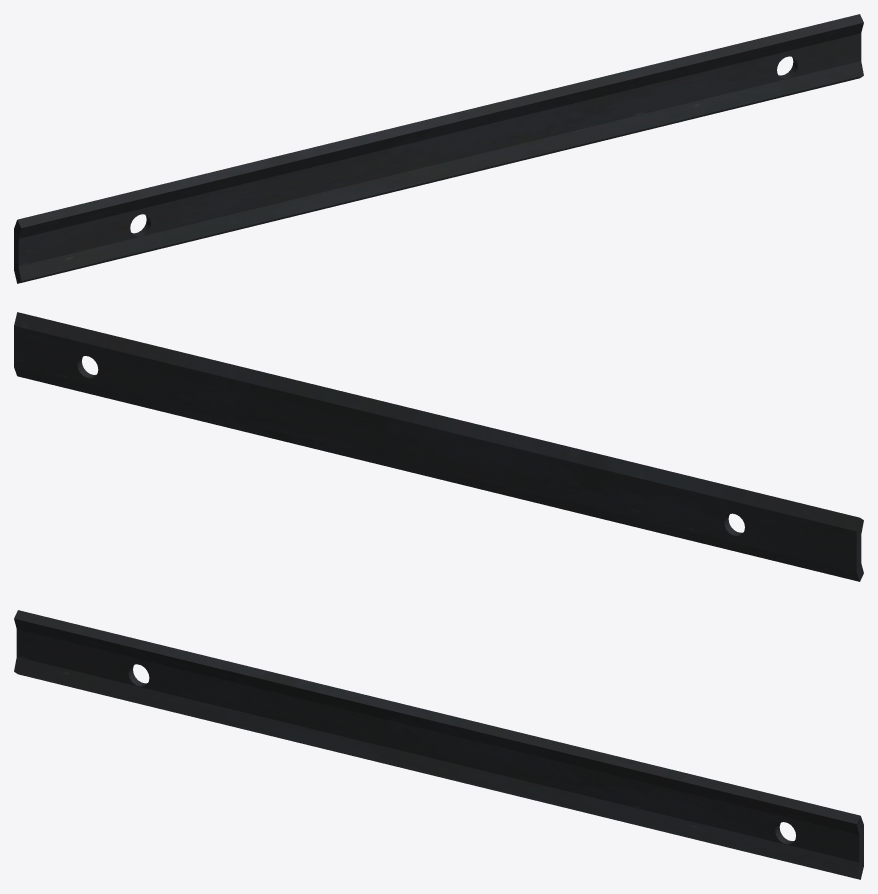
Rendered from Clamping_Bar.dae.
3 views of the same model, one above another, from view 1: azimuth 30°, elevation 25°; view 2: azimuth 150°, elevation 25°; view 3: azimuth 330°, elevation 25° (orthographic).
Parts seen in each view (by area): view 1: Clamping_Bar; view 2: Clamping_Bar; view 3: Clamping_Bar.
Part boxes in pixels (x1=…): Clamping_Bar: x1=14, y1=14, x2=863, y2=283; Clamping_Bar: x1=14, y1=312, x2=863, y2=581; Clamping_Bar: x1=14, y1=610, x2=863, y2=879.
Bounding box in the file's own units: 0.1426 × 0.00212 × 0.0104.
1 material, 1 textured.
